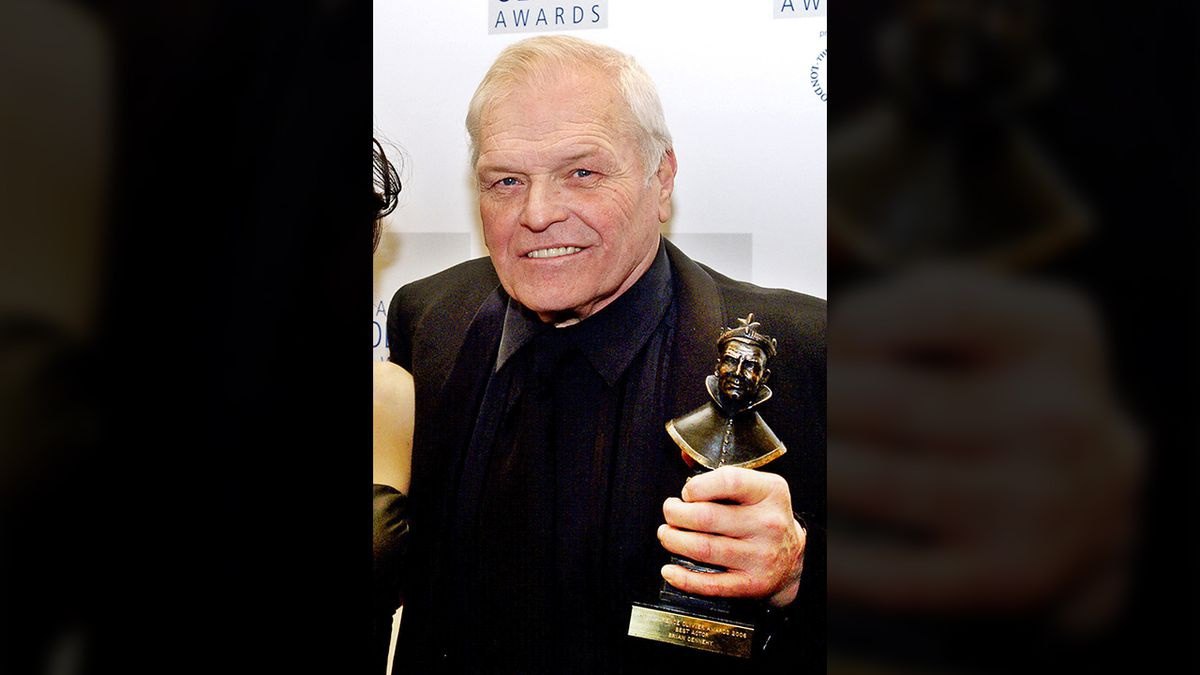bad: (448, 118, 634, 304), (702, 343, 764, 405)
